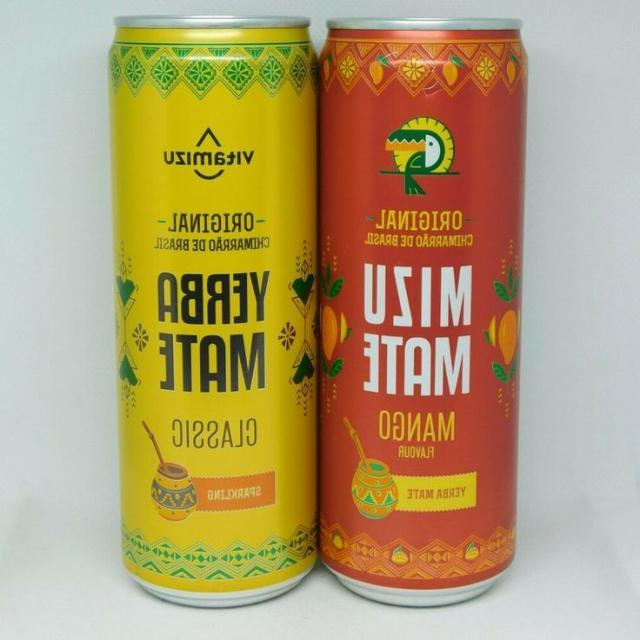can: (312, 0, 536, 610), (106, 4, 322, 610)
